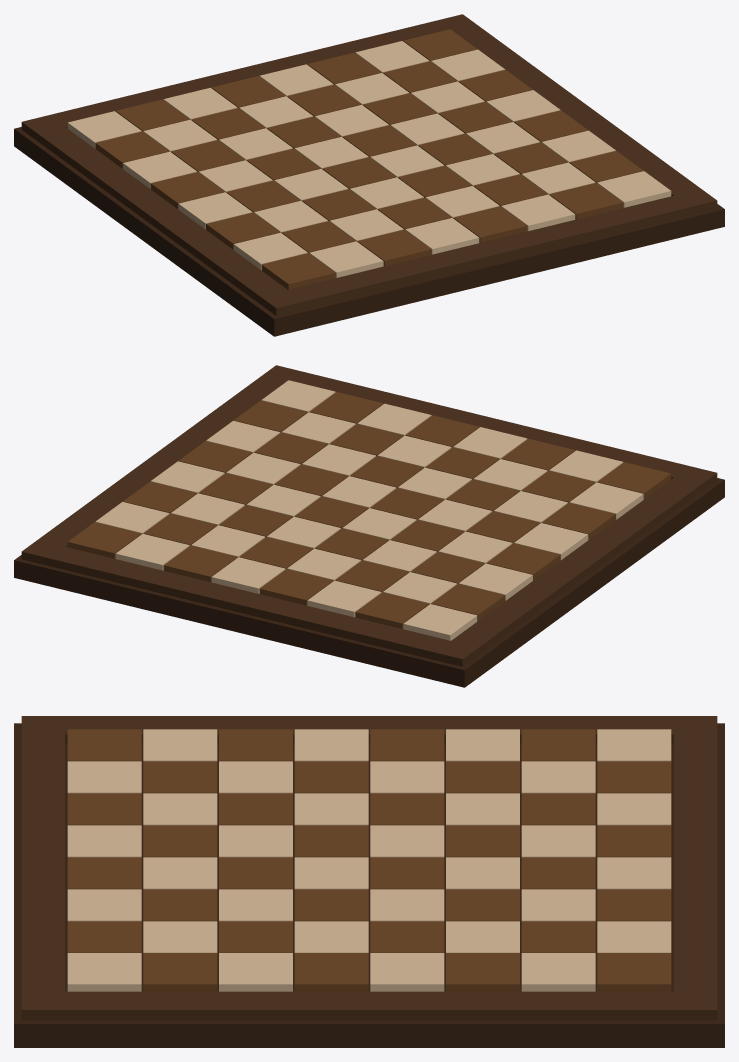
The picture shows the model from 3 angles, top to bottom: view 1: azimuth 30°, elevation 25°; view 2: azimuth 150°, elevation 25°; view 3: azimuth 270°, elevation 25°; orthographic projection. The views are drawn at different scales.
Visible parts, largest first — view 1: WoodBoard; view 2: WoodBoard; view 3: WoodBoard.
Part boxes in pixels (x1=…): WoodBoard: x1=14, y1=14, x2=724, y2=336; WoodBoard: x1=14, y1=365, x2=724, y2=687; WoodBoard: x1=14, y1=716, x2=724, y2=1047.
Bounding box in the file's own units: 9.4 × 0.595 × 9.4.
